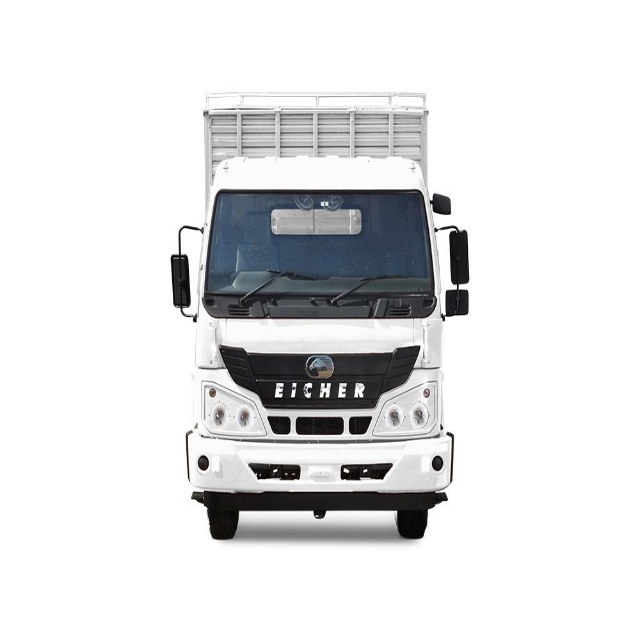Truck: (170, 89, 469, 541)
